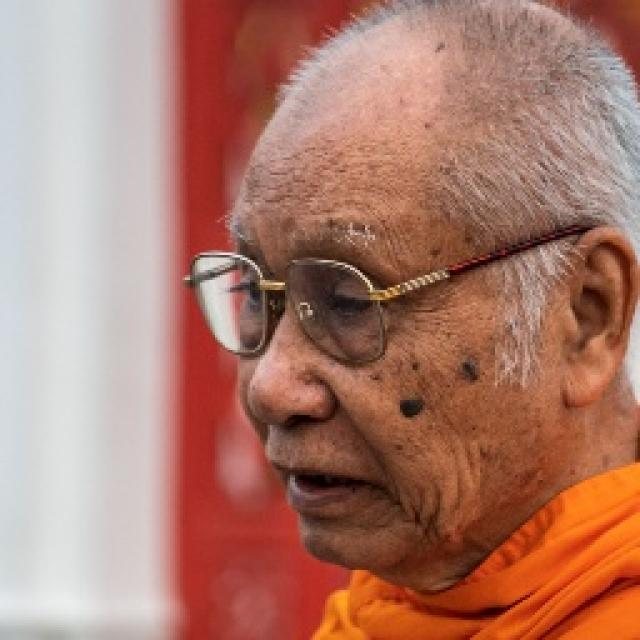earlobe: (561, 226, 638, 412)
